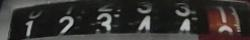digits: (172, 2, 198, 37), (211, 3, 237, 38), (94, 2, 120, 36), (134, 1, 156, 37), (20, 7, 44, 39), (58, 5, 77, 38)
